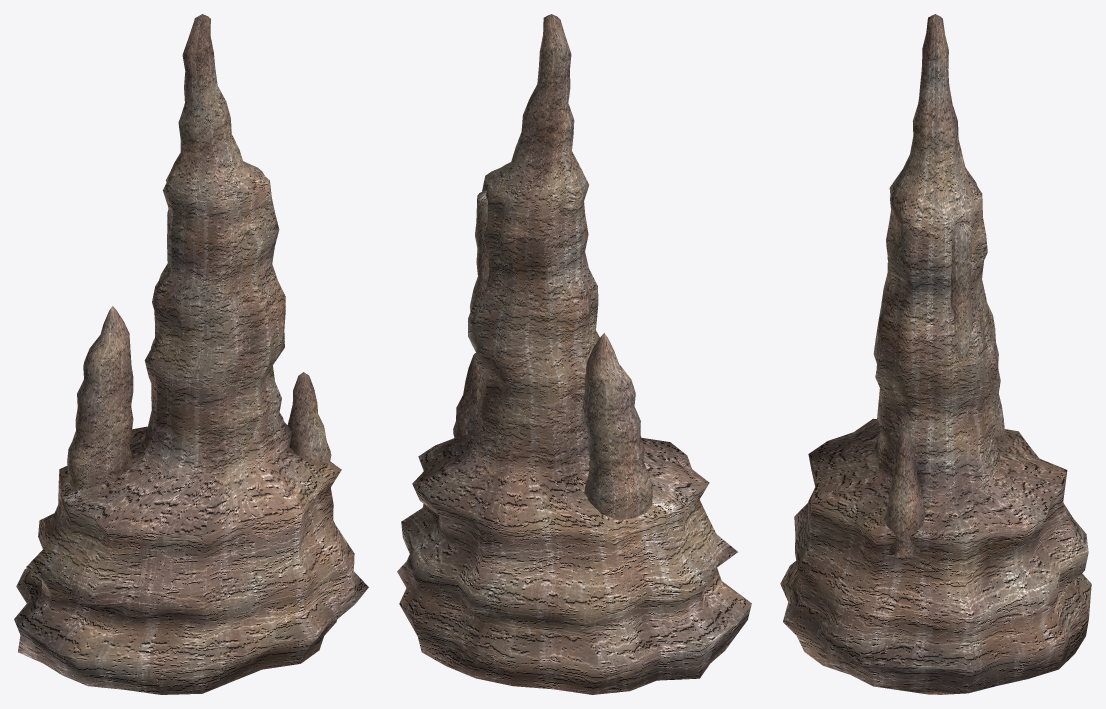
The model's file is mm6_deco_stlmite2.glb.
3 renders of one model, left to right at view 1: azimuth 30°, elevation 25°; view 2: azimuth 150°, elevation 25°; view 3: azimuth 270°, elevation 25°, orthographic.
Visible parts, largest first — view 1: Stlmite2; view 2: Stlmite2; view 3: Stlmite2.
Part boxes in pixels (<box>): Stlmite2: <box>14,14,368,694</box>; Stlmite2: <box>397,14,751,694</box>; Stlmite2: <box>780,14,1091,694</box>.
Bounding box in the file's own units: 1.18 × 2.29 × 1.01.
1 material, 1 textured.
